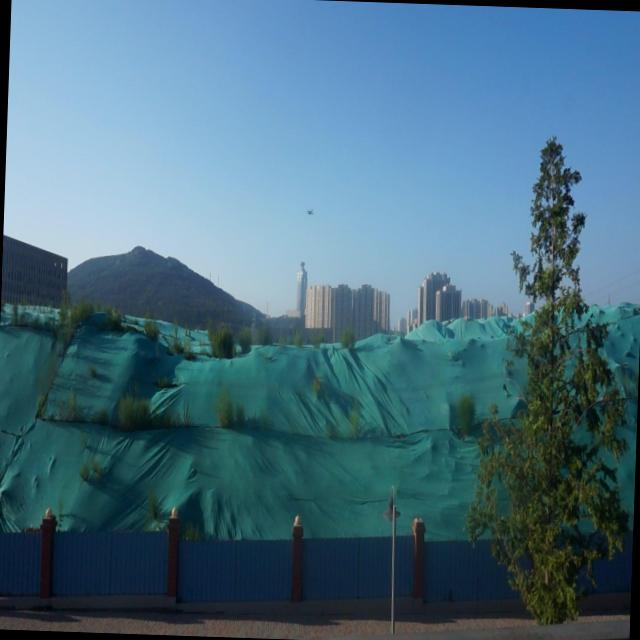drone: (302, 202, 318, 220)
